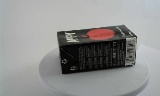appy: (51, 23, 129, 74)
